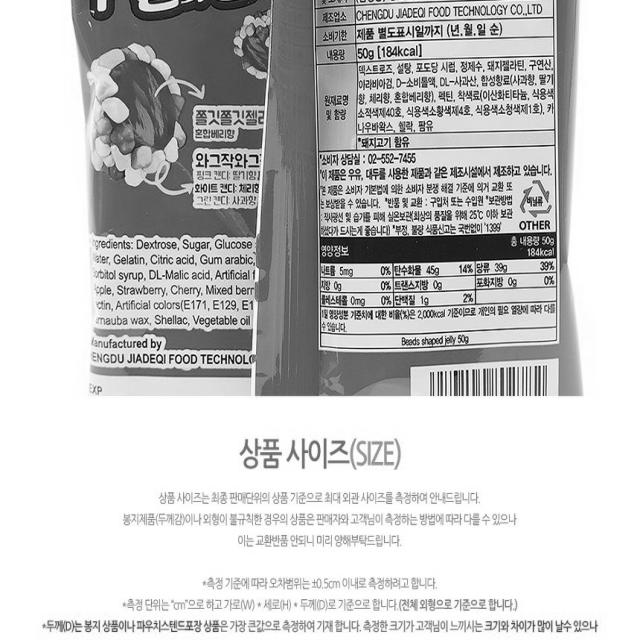Nutrition Label: (314, 233, 560, 349)
